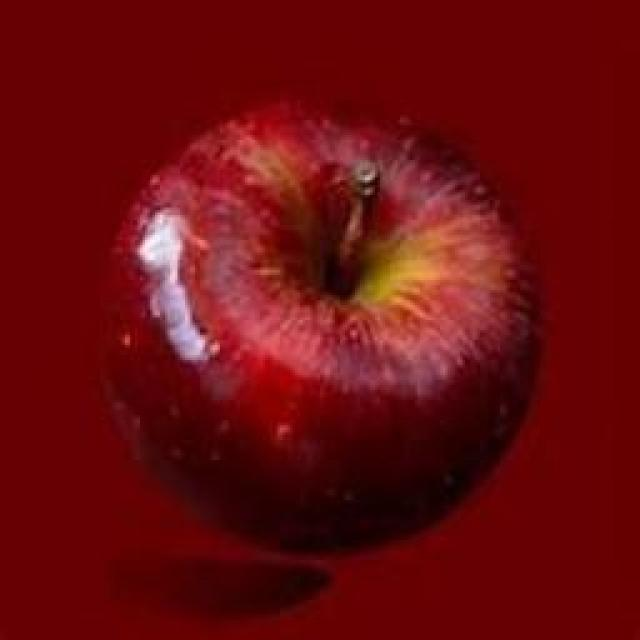Apple: (108, 105, 536, 549)
